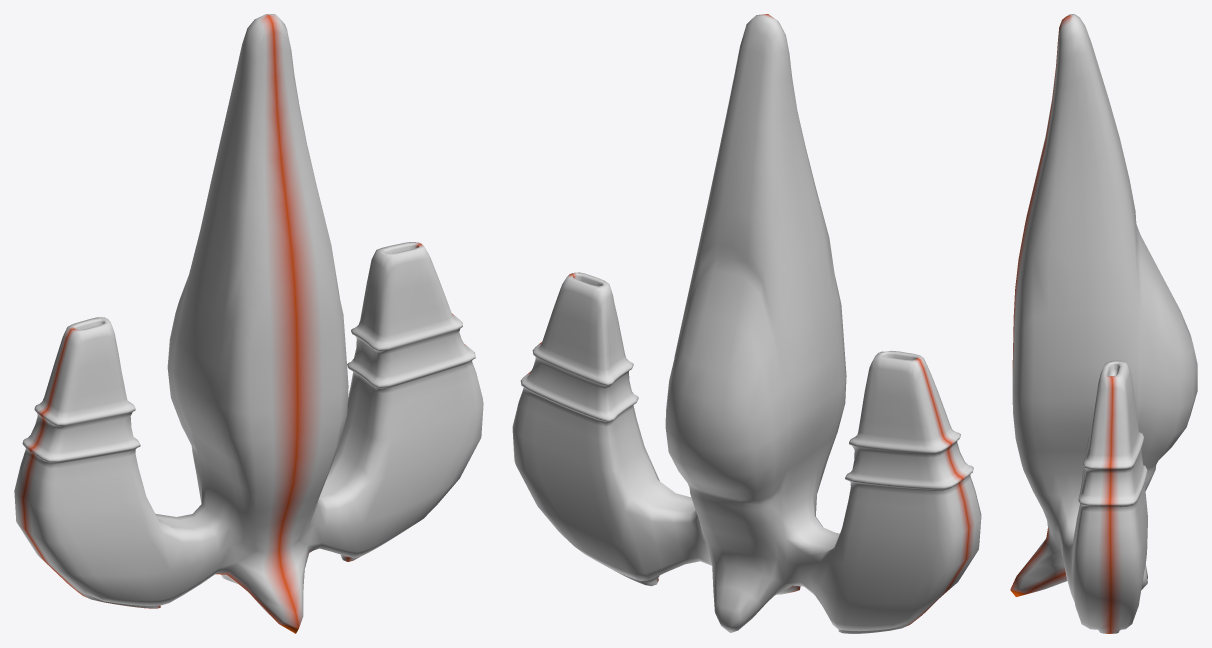
File: spaceship_2.FBX
3 views of the same model, side by side, from view 1: azimuth 30°, elevation 25°; view 2: azimuth 150°, elevation 25°; view 3: azimuth 270°, elevation 25° (orthographic). The views are drawn at different scales.
Visible parts, largest first — view 1: Box001_SeamsColor1; view 2: Box001_SeamsColor1; view 3: Box001_SeamsColor1.
Boxes of the visible parts, box(x1,y1,x2,y2) form: Box001_SeamsColor1: box(14, 14, 483, 633); Box001_SeamsColor1: box(512, 14, 981, 633); Box001_SeamsColor1: box(1010, 14, 1197, 633).
Bounding box in the file's own units: 255 × 326 × 95.34.
